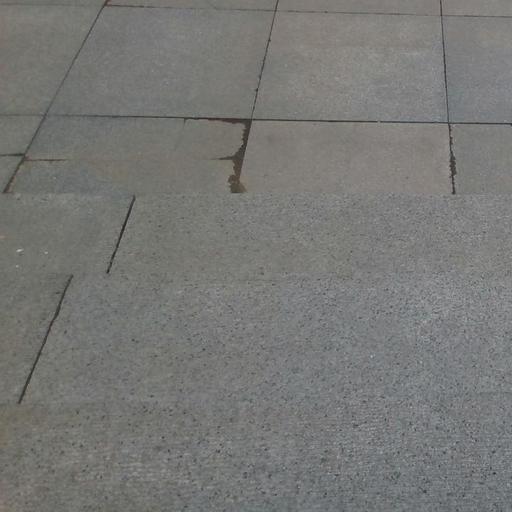stairs: (0, 194, 511, 511)
